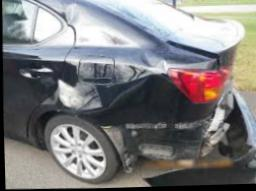Bumper: (137, 84, 256, 188)
Fender: (39, 0, 216, 167)
